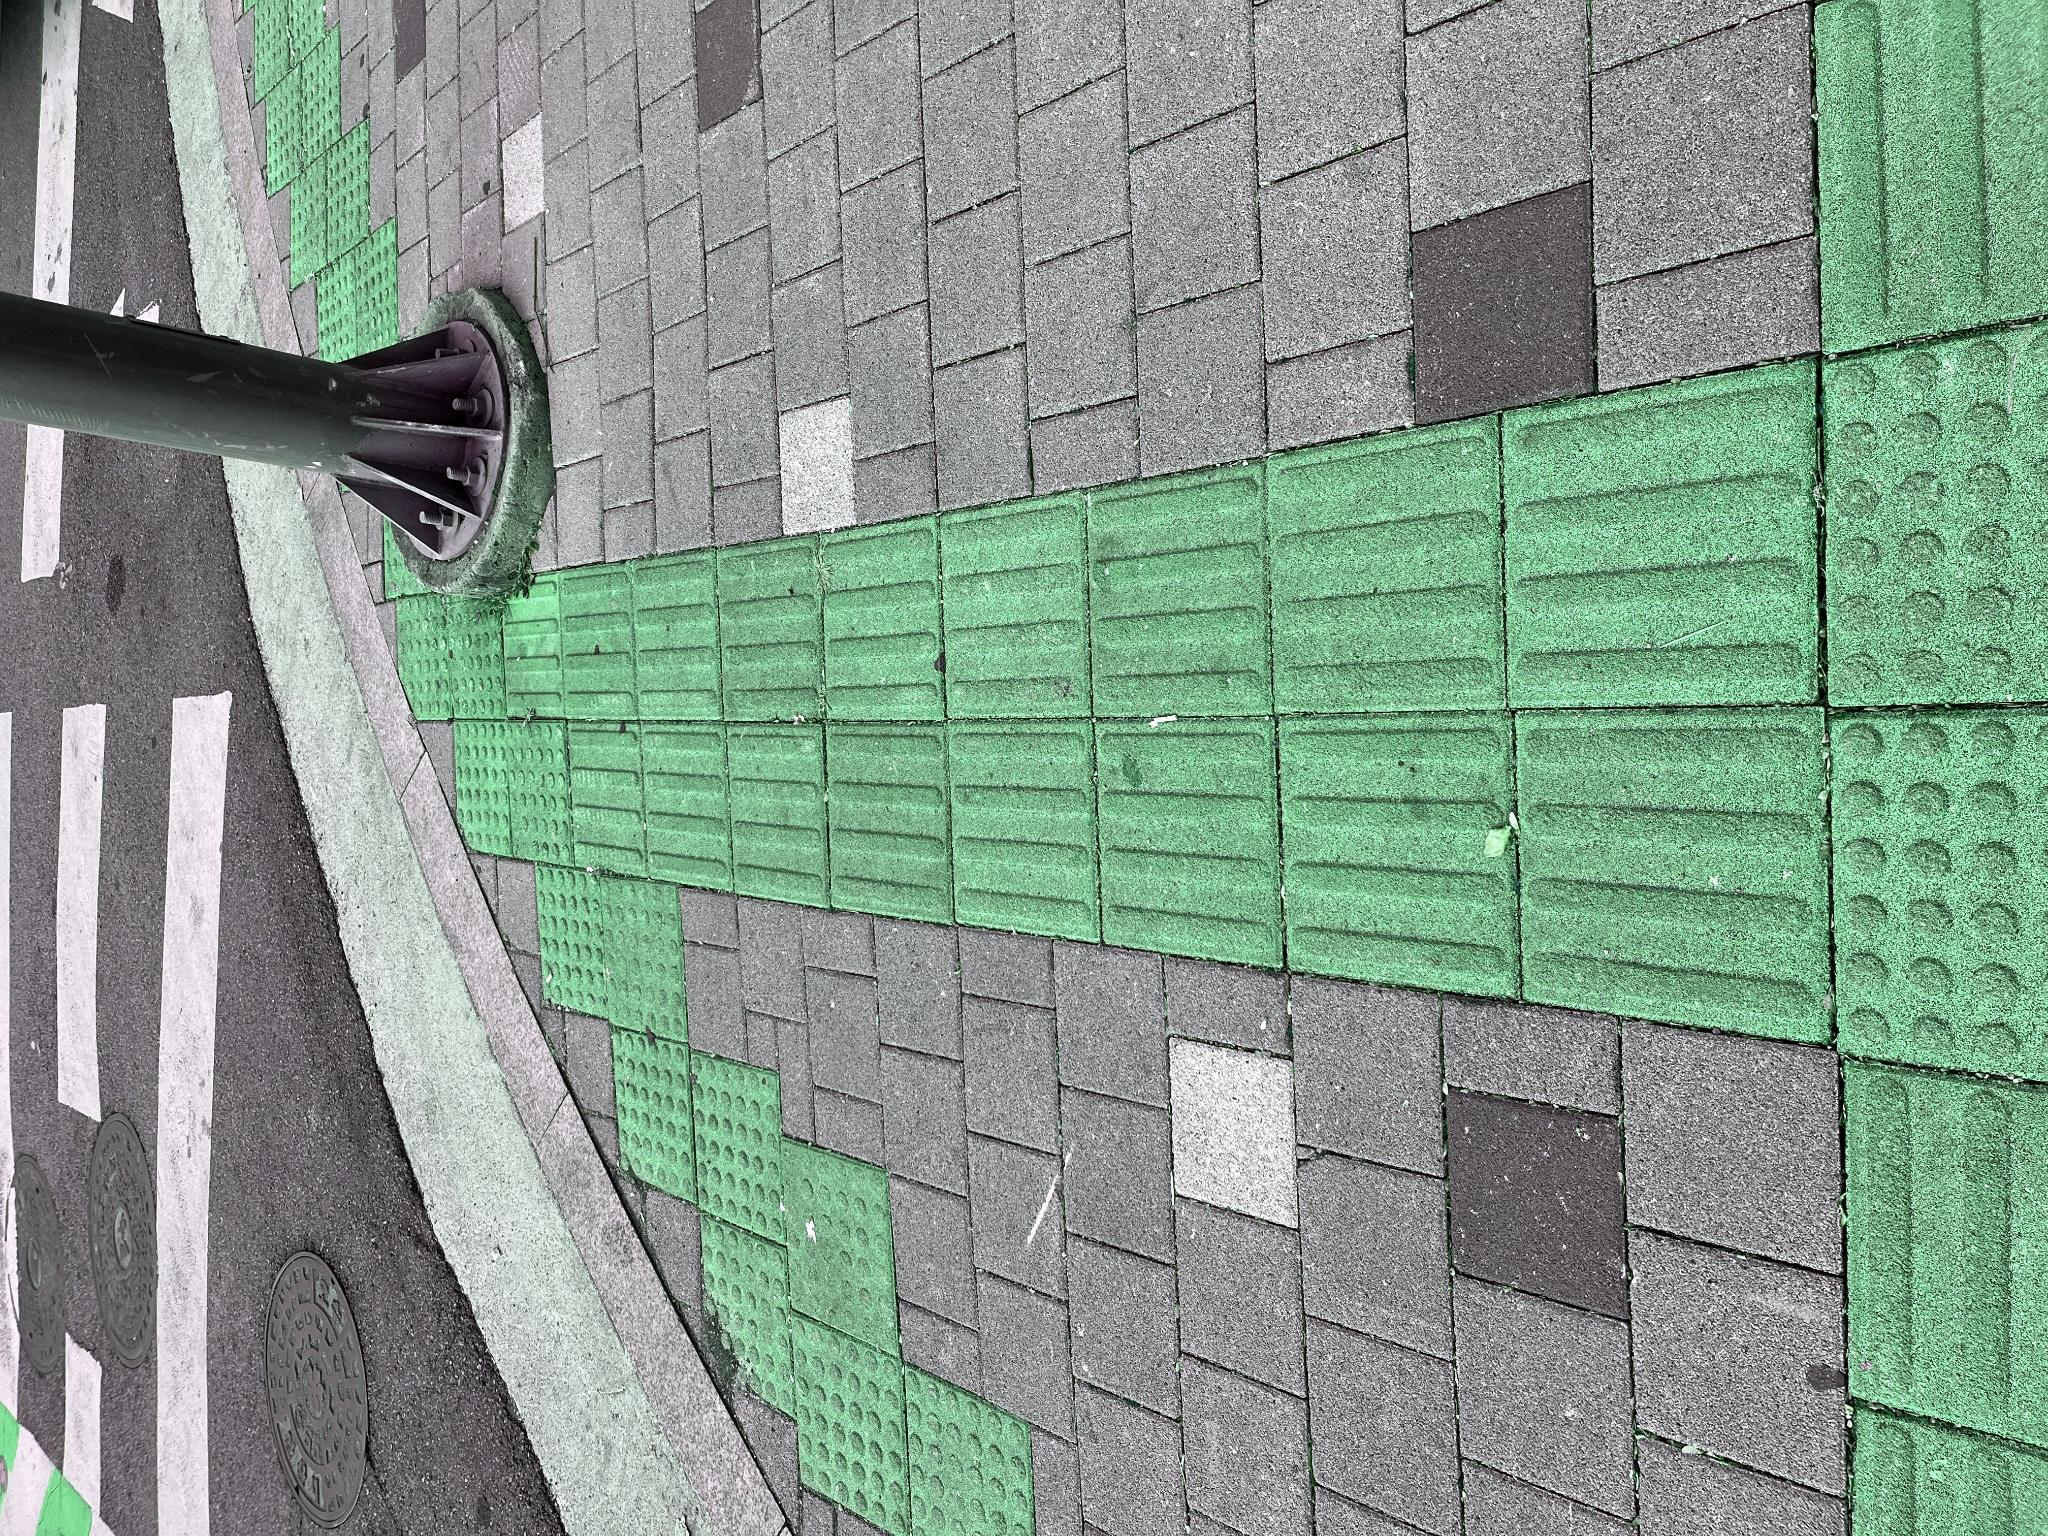Straight block normal: (826, 1270, 1118, 1504), (571, 1099, 813, 1275), (818, 823, 1018, 942)
